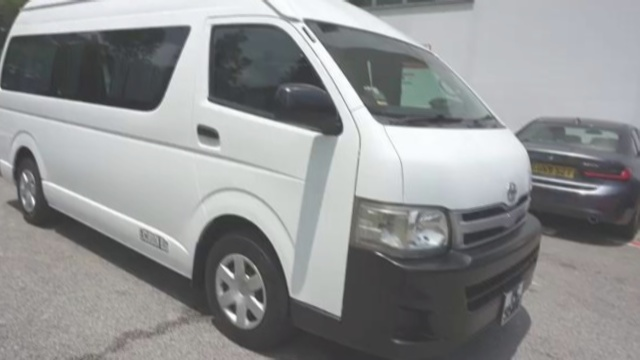van: (0, 0, 553, 360)
